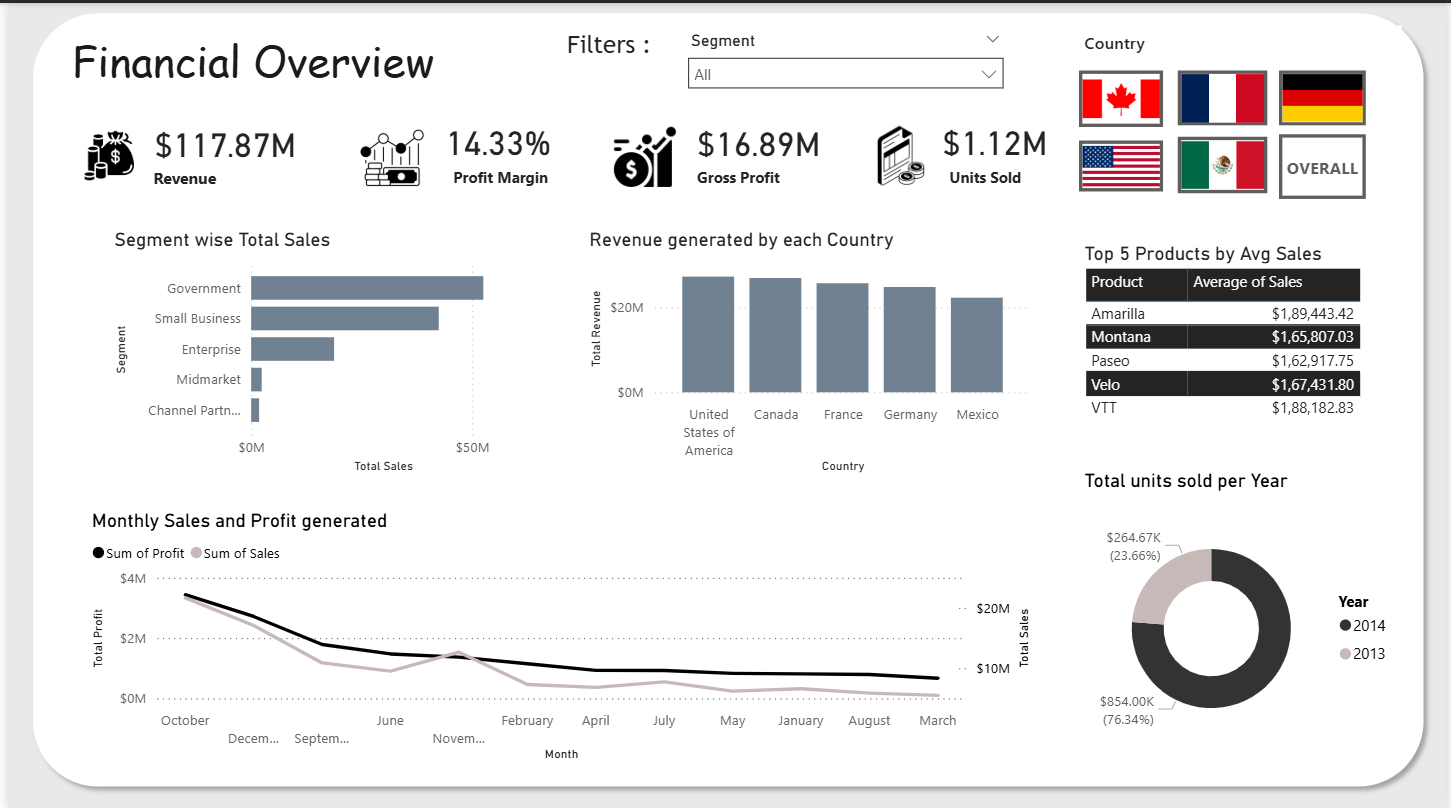

This screenshot's page, from the dashboard's own definition file:
{"tool":"powerbi","page":{"name":"Financial Overview","canvas":[1280,720],"ordinal":0},"visuals":[{"type":"shape","box":[12.3,0,1256.4,706.8],"z":0},{"type":"textbox","box":[51.5,19.6,542.3,65],"z":1000},{"type":"image","box":[34.4,109.2,109.2,54],"z":2000},{"type":"card","fields":{"Values":["Sum(financial_data v_finance_kpi.Total_Revenue)"]},"box":[123.9,105.5,138.7,38],"z":3000},{"type":"textbox","box":[123.9,141.1,108,30.7],"z":4000},{"type":"image","box":[303.1,103.1,77.3,68.7],"z":5000},{"type":"card","fields":{"Values":["Sum(financial_data v_finance_kpi.Profit_Margin)"]},"box":[380.4,103.1,110.4,38],"z":6000},{"type":"textbox","box":[390.2,141.1,100.6,31.9],"z":7000},{"type":"image","box":[523.9,104.3,83.4,65],"z":8000},{"type":"card","fields":{"Values":["Sum(financial_data v_finance_kpi.Gross_Profit)"]},"box":[607.4,104.3,120.2,38],"z":9000},{"type":"textbox","box":[607.4,141.1,120.2,35.6],"z":10000},{"type":"image","box":[754.6,103.1,78.5,65],"z":11000},{"type":"card","fields":{"Values":["Sum(financial_data v_finance_kpi.Total_Units_Sold)"]},"box":[818.4,103.1,120.2,38],"z":12000},{"type":"textbox","box":[833.1,141.1,105.5,35.6],"z":13000},{"type":"tableEx","title":"Top 5 Products by Avg Sales","fields":{"Values":["financial_data financial_dataset.Product","Avg(financial_data financial_dataset.Sales)"]},"box":[953.4,212.3,255.2,171.8],"z":14000},{"type":"lineChart","title":"Monthly Sales and Profit generated","fields":{"Category":["financial_data financial_dataset.Month Name"],"Y":["Sum(financial_data financial_dataset.Profit)"],"Y2":["Sum(financial_data financial_dataset.Sales)"]},"box":[68.7,450.3,846.6,229.4],"z":15000},{"type":"clusteredColumnChart","title":"Revenue generated by each Country","fields":{"Y":["Sum(financial_data v_profit_by_country.Total_Revenue)"],"Category":["financial_data v_profit_by_country.Country"]},"box":[511.7,200,403.7,223.3],"z":16000},{"type":"clusteredBarChart","title":"Segment wise Total Sales","fields":{"Category":["financial_data v_sales_by_segment.Segment"],"Y":["Sum(financial_data v_sales_by_segment.Total_Sales)"]},"box":[89.6,200,384.1,223.3],"z":17000},{"type":"donutChart","title":"Total units sold per Year","fields":{"Y":["Sum(financial_data financial_dataset.Units Sold)"],"Category":["financial_data financial_dataset.Year"]},"box":[953.4,414.7,287.1,265],"z":18000},{"type":"actionButton","box":[953.4,60.1,74.8,50.3],"z":19000},{"type":"actionButton","box":[953.4,122.7,74.8,45.4],"z":21000},{"type":"actionButton","box":[1040.5,119,79.8,50.3],"z":22000},{"type":"actionButton","box":[1131.3,60.1,77.3,49.1],"z":23000},{"type":"actionButton","box":[1040.5,60.1,79.8,49.1],"z":24000},{"type":"actionButton","box":[1131.3,116.6,77.3,57.7],"z":25000},{"type":"textbox","box":[953.4,19.6,287.1,33.1],"z":26000},{"type":"textbox","box":[492,19.6,101.8,40.5],"z":27000},{"type":"slicer","fields":{"Values":["financial_data financial_dataset.Segment"]},"box":[594.1,20.1,300.8,68],"z":28000}]}

Visuals, with their boxes in screenshot pixels (x1, y1, x2, y2), scaled from the page's 1280x720 canvas onto the 1451x808 screenshot:
shape: <region>14, 0, 1438, 793</region>
textbox: <region>58, 22, 673, 95</region>
image: <region>39, 123, 163, 183</region>
card - Sum(financial_data v_finance_kpi.Total_Revenue): <region>140, 118, 298, 161</region>
textbox: <region>140, 158, 263, 193</region>
image: <region>344, 116, 431, 193</region>
card - Sum(financial_data v_finance_kpi.Profit_Margin): <region>431, 116, 556, 158</region>
textbox: <region>442, 158, 556, 194</region>
image: <region>594, 117, 688, 190</region>
card - Sum(financial_data v_finance_kpi.Gross_Profit): <region>689, 117, 825, 160</region>
textbox: <region>689, 158, 825, 198</region>
image: <region>855, 116, 944, 189</region>
card - Sum(financial_data v_finance_kpi.Total_Units_Sold): <region>928, 116, 1064, 158</region>
textbox: <region>944, 158, 1064, 198</region>
"Top 5 Products by Avg Sales" tableEx: <region>1081, 238, 1370, 431</region>
"Monthly Sales and Profit generated" lineChart: <region>78, 505, 1038, 763</region>
"Revenue generated by each Country" clusteredColumnChart: <region>580, 224, 1038, 475</region>
"Segment wise Total Sales" clusteredBarChart: <region>102, 224, 537, 475</region>
"Total units sold per Year" donutChart: <region>1081, 465, 1406, 763</region>
actionButton: <region>1081, 67, 1166, 124</region>
actionButton: <region>1081, 138, 1166, 189</region>
actionButton: <region>1180, 134, 1270, 190</region>
actionButton: <region>1282, 67, 1370, 123</region>
actionButton: <region>1180, 67, 1270, 123</region>
actionButton: <region>1282, 131, 1370, 196</region>
textbox: <region>1081, 22, 1406, 59</region>
textbox: <region>558, 22, 673, 67</region>
slicer - financial_data financial_dataset.Segment: <region>673, 23, 1014, 99</region>
